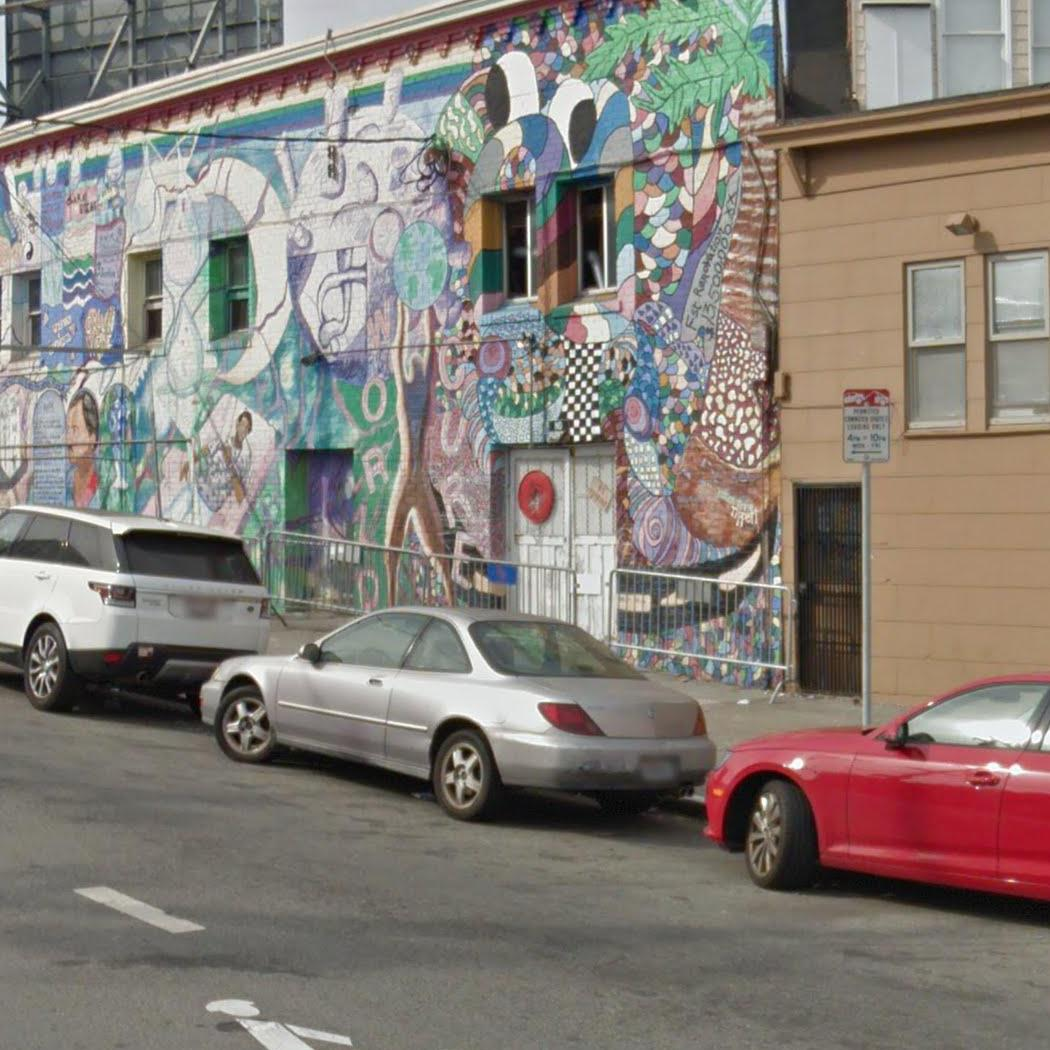No Parking: (842, 387, 892, 465)
